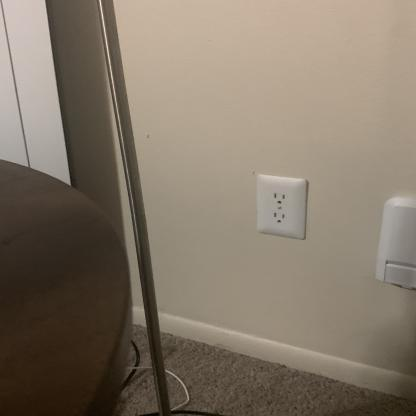OUTLET: (254, 173, 308, 240)
